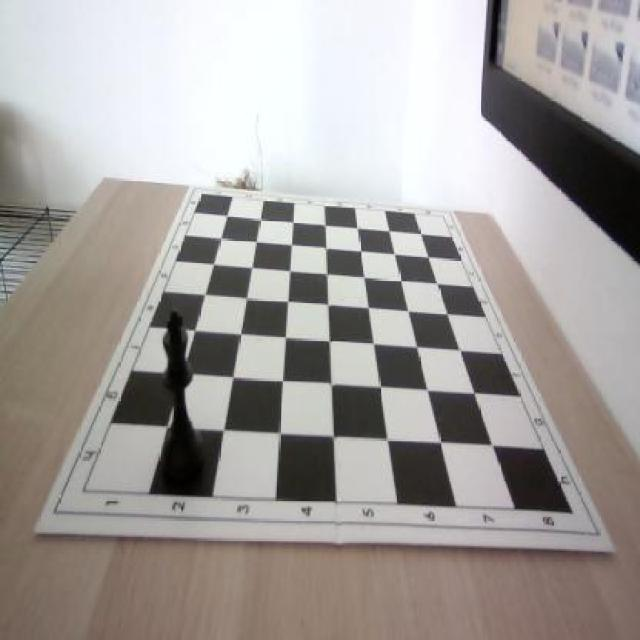black-bishop: (160, 311, 205, 490)
